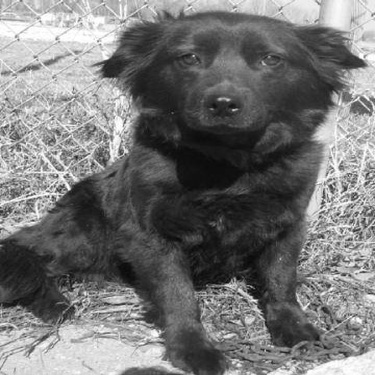dog: (5, 7, 370, 372)
